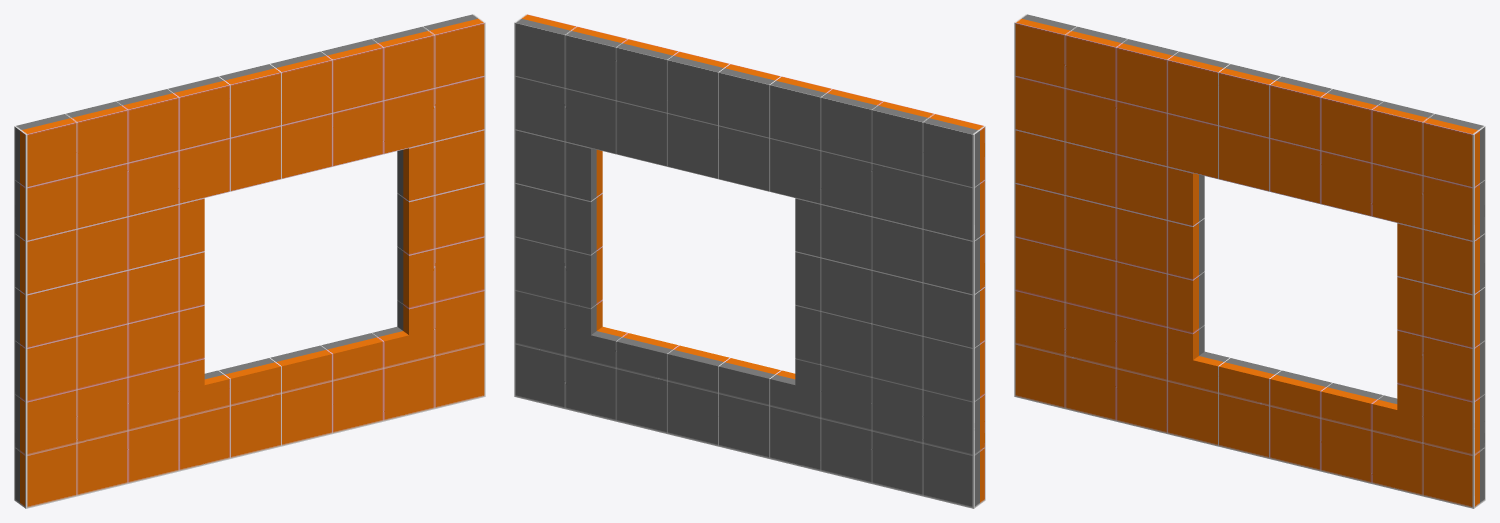
File: M01WallWindowTypeB_2.FBX
The picture shows the model from 3 angles, left to right: view 1: azimuth 30°, elevation 25°; view 2: azimuth 150°, elevation 25°; view 3: azimuth 330°, elevation 25°; orthographic projection.
Parts seen in each view (by area): view 1: M01WallWindowTypeB_2; view 2: M01WallWindowTypeB_2; view 3: M01WallWindowTypeB_2.
Part boxes in pixels (left/top/right/bottom): M01WallWindowTypeB_2: left=14, top=14, right=485, bottom=508; M01WallWindowTypeB_2: left=514, top=14, right=985, bottom=508; M01WallWindowTypeB_2: left=1014, top=14, right=1485, bottom=508.
Size of what is drawn, in the model's own units: 4.5 by 3.5 by 0.2.
